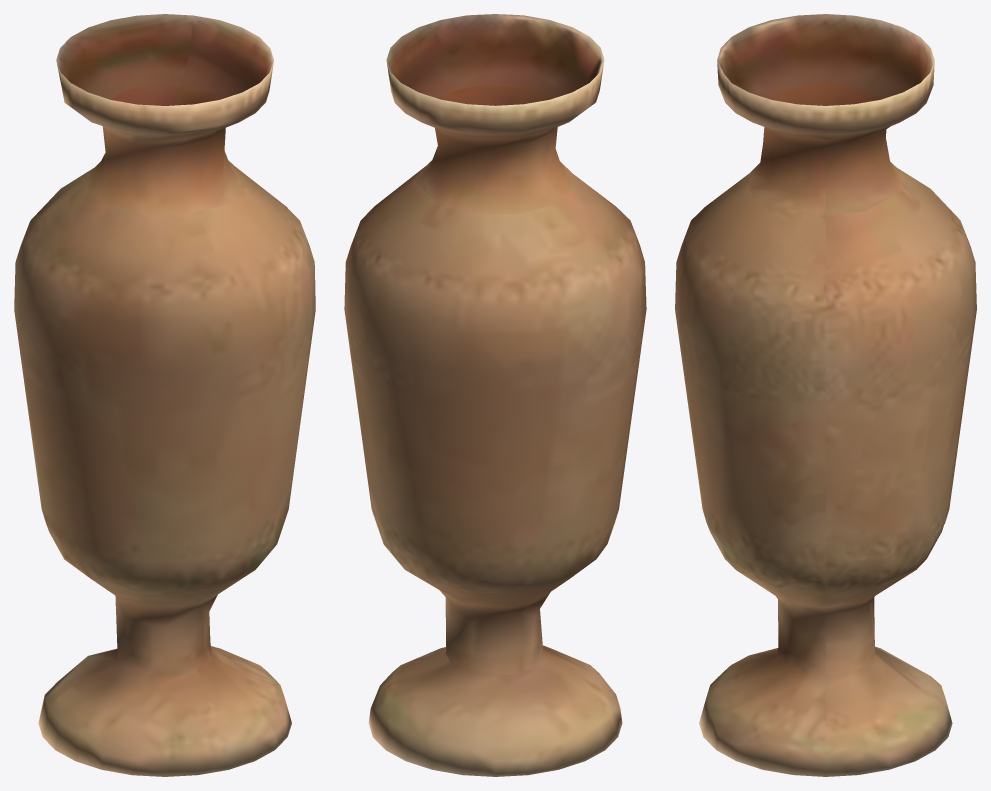
Rendered from design-brass-vase-03.glb.
3 renders of one model, left to right at view 1: azimuth 30°, elevation 25°; view 2: azimuth 150°, elevation 25°; view 3: azimuth 270°, elevation 25°, orthographic.
Parts seen in each view (by area): view 1: brass_vase_03; view 2: brass_vase_03; view 3: brass_vase_03.
Boxes of the visible parts, bbox=[...] form: brass_vase_03: bbox=[14, 14, 315, 776]; brass_vase_03: bbox=[344, 14, 646, 776]; brass_vase_03: bbox=[675, 14, 976, 776].
Bounding box in the file's own units: 0.0825 × 0.2 × 0.0825.
1 material, 1 textured.
